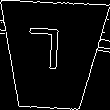L_S: (32, 29, 71, 82)
